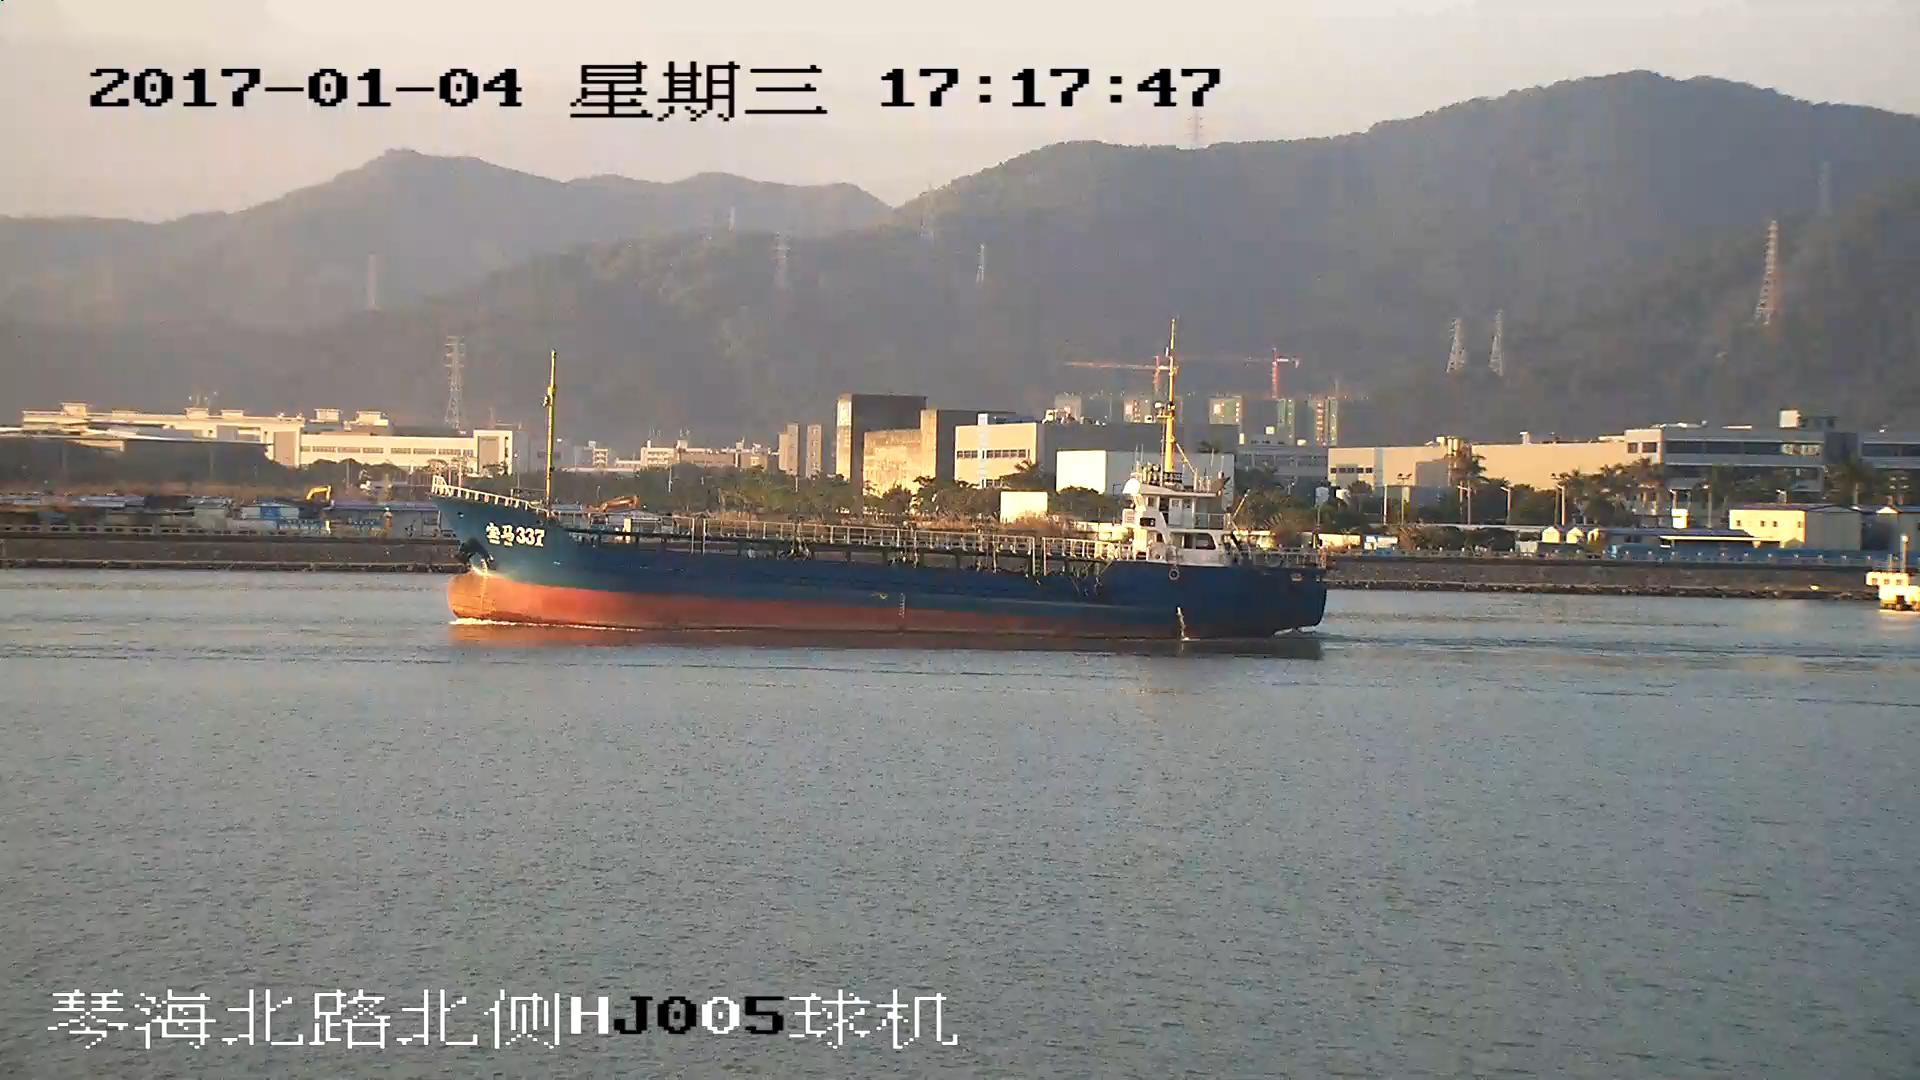general cargo ship: (433, 342, 1331, 640)
